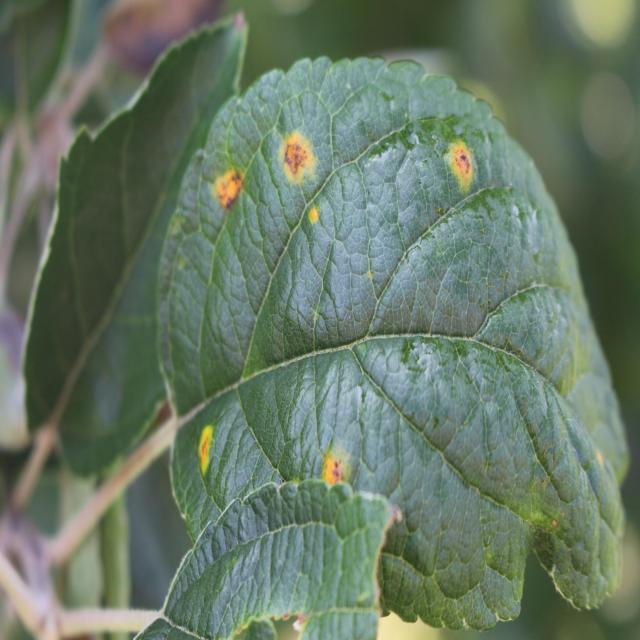Rust: (270, 130, 328, 198), (189, 391, 222, 506), (311, 444, 350, 515), (445, 116, 477, 202), (216, 147, 251, 225), (309, 201, 334, 236)
